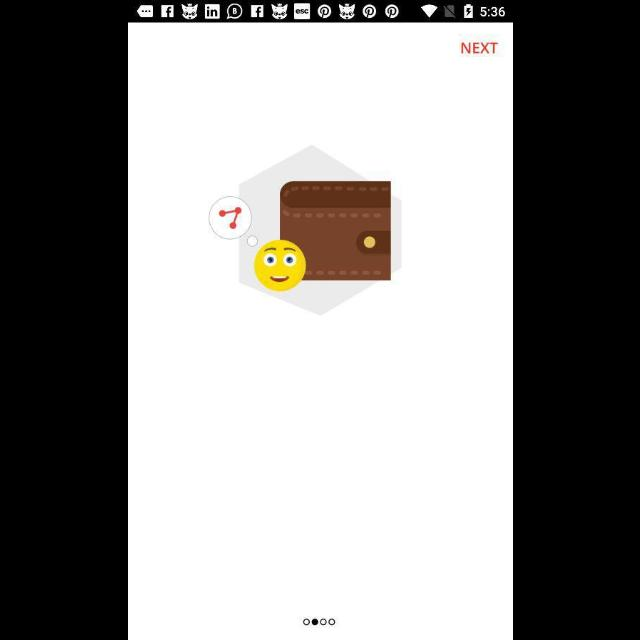image: (208, 146, 402, 316)
pageindicator: (302, 618, 336, 626)
text: (460, 43, 498, 55)
uppertaskbar: (128, 1, 512, 23)
